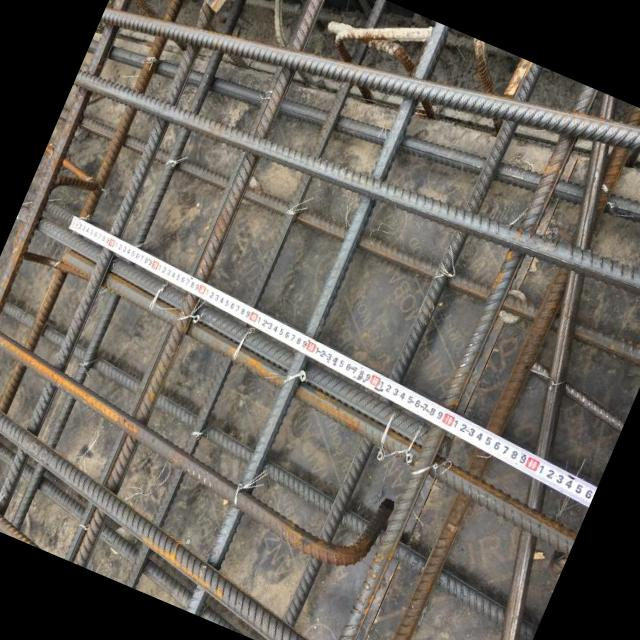ribbed bar: (252, 49, 591, 640), (228, 39, 537, 640), (200, 31, 490, 634), (0, 0, 303, 554), (78, 0, 365, 559), (178, 18, 446, 615), (38, 27, 322, 574), (0, 0, 283, 489), (0, 0, 237, 526), (14, 196, 467, 408), (46, 126, 497, 336), (90, 39, 534, 244), (0, 280, 431, 491), (0, 0, 220, 399), (0, 402, 382, 613), (108, 10, 490, 192), (114, 0, 523, 158), (0, 469, 351, 640), (137, 0, 560, 106), (68, 0, 185, 109)
